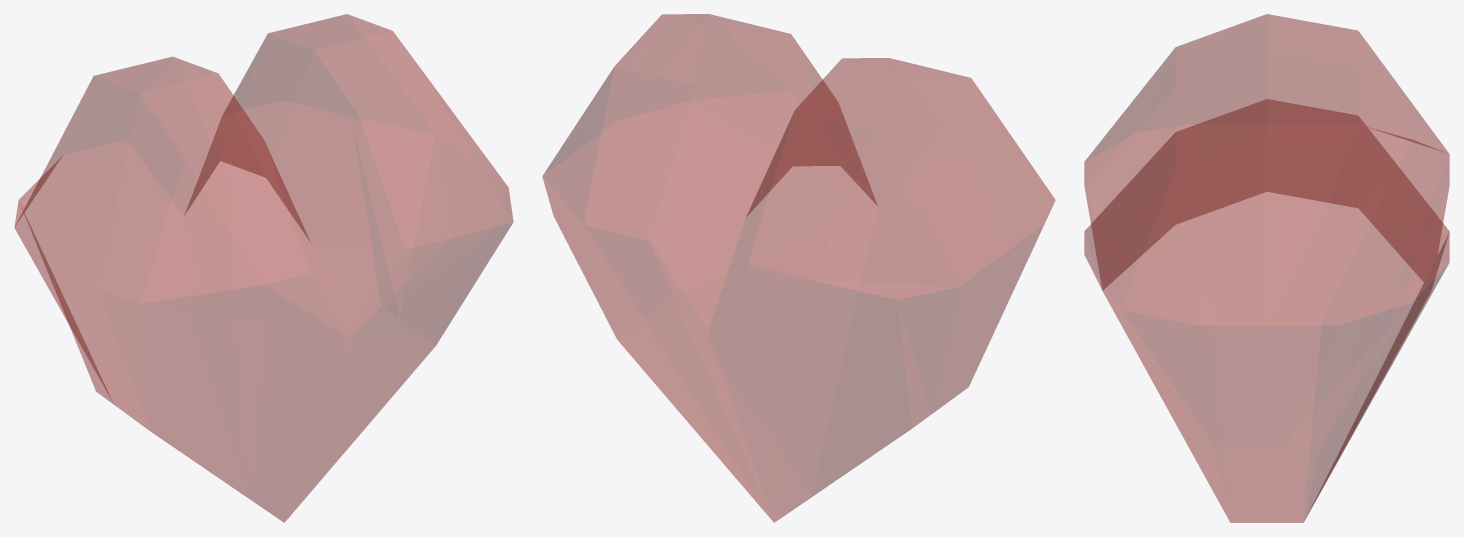
3 views of the same model, side by side, from view 1: azimuth 30°, elevation 25°; view 2: azimuth 150°, elevation 25°; view 3: azimuth 270°, elevation 25° (orthographic). The views are drawn at different scales.
Parts seen in each view (by area): view 1: 2472; view 2: 2472; view 3: 2472.
Part boxes in pixels (x1,y1,x2,y2): 2472: (14,14,513,522); 2472: (542,14,1055,522); 2472: (1084,14,1449,522).
Bounding box in the file's own units: 26 × 27 × 20.
